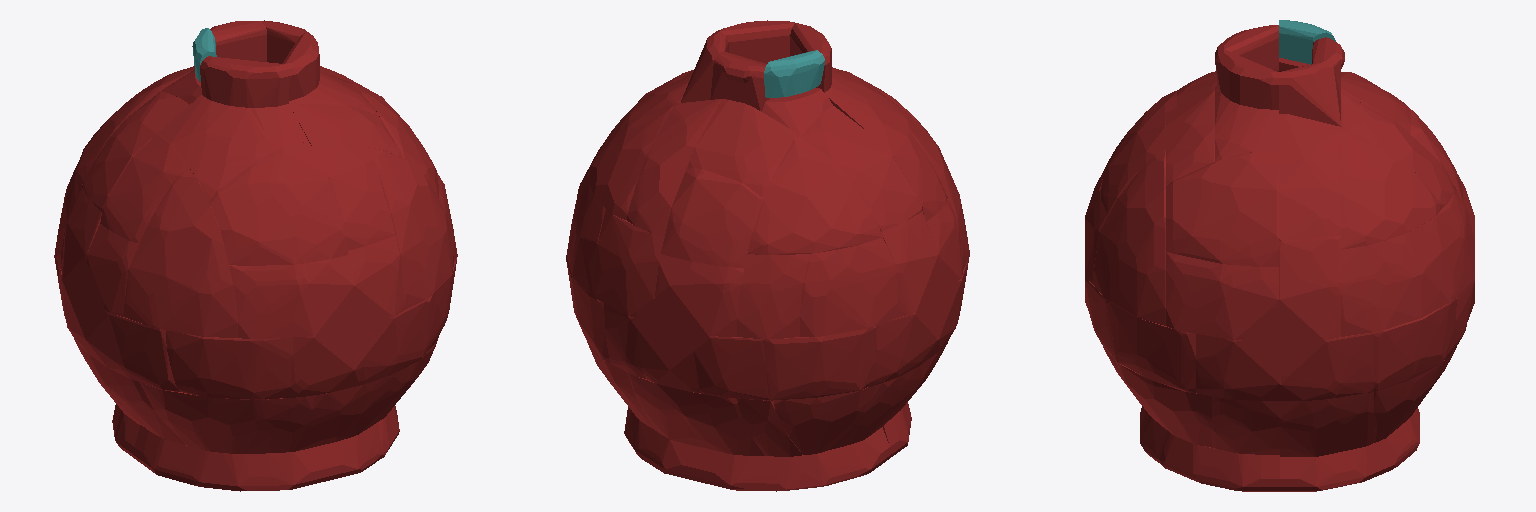
--- Render facts (derived) ---
Views: 3 orthographic renders of the robot side by side, from view 1: azimuth 30°, elevation 25°; view 2: azimuth 150°, elevation 25°; view 3: azimuth 270°, elevation 25°.
Robot: root — 2 links, 1 joints (1 revolute); root link bottle_body; default pose: all joints at 0.
Links seen in each view (by area): view 1: bottle_body, bottle_cap; view 2: bottle_body, bottle_cap; view 3: bottle_body, bottle_cap.
Boxes of the visible links, <box> form: bottle_body: <box>54,20,457,491</box>; bottle_cap: <box>192,28,216,81</box>; bottle_body: <box>566,20,969,491</box>; bottle_cap: <box>764,50,824,97</box>; bottle_body: <box>1085,25,1474,491</box>; bottle_cap: <box>1279,20,1335,64</box>.
Bounding box of the posed robot: 0.1507 × 0.1507 × 0.1671 m (x, y, z).
Meshes: 76 distinct files referenced, 76 mesh visuals loaded (76 OBJ).

URDF robot description (root):
<robot name="root">
  <link name="bottle_body">
    <inertial>
      <origin xyz="0 0 0" rpy="0 0 0"/>
    </inertial>
    <mass value="1.00E-02"/>
    <visual>
      <origin xyz="0 0 0" rpy="0 0 0"/>
      <geometry>
        <mesh filename="core-bottle-ab5ca2f648a9daa1b5ad628041310f96-coacd_convex_piece_4.obj" scale="1.0000E-01 1.0000E-01 1.0000E-01"/>
      </geometry>
      <material name="">
        <color rgba="6.00E-01 2.00E-01 2.00E-01 1"/>
      </material>
    </visual>
    <collision>
      <origin xyz="0 0 0" rpy="0 0 0"/>
      <geometry>
        <mesh filename="core-bottle-ab5ca2f648a9daa1b5ad628041310f96-coacd_convex_piece_4.obj" scale="1.0000E-01 1.0000E-01 1.0000E-01"/>
      </geometry>
    </collision>
    <visual>
      <origin xyz="0 0 0" rpy="0 0 0"/>
      <geometry>
        <mesh filename="core-bottle-ab5ca2f648a9daa1b5ad628041310f96-coacd_convex_piece_75.obj" scale="1.0000E-01 1.0000E-01 1.0000E-01"/>
      </geometry>
      <material name="">
        <color rgba="6.00E-01 2.00E-01 2.00E-01 1"/>
      </material>
    </visual>
    <collision>
      <origin xyz="0 0 0" rpy="0 0 0"/>
      <geometry>
        <mesh filename="core-bottle-ab5ca2f648a9daa1b5ad628041310f96-coacd_convex_piece_75.obj" scale="1.0000E-01 1.0000E-01 1.0000E-01"/>
      </geometry>
    </collision>
    <visual>
      <origin xyz="0 0 0" rpy="0 0 0"/>
      <geometry>
        <mesh filename="core-bottle-ab5ca2f648a9daa1b5ad628041310f96-coacd_convex_piece_43.obj" scale="1.0000E-01 1.0000E-01 1.0000E-01"/>
      </geometry>
      <material name="">
        <color rgba="6.00E-01 2.00E-01 2.00E-01 1"/>
      </material>
    </visual>
    <collision>
      <origin xyz="0 0 0" rpy="0 0 0"/>
      <geometry>
        <mesh filename="core-bottle-ab5ca2f648a9daa1b5ad628041310f96-coacd_convex_piece_43.obj" scale="1.0000E-01 1.0000E-01 1.0000E-01"/>
      </geometry>
    </collision>
    <visual>
      <origin xyz="0 0 0" rpy="0 0 0"/>
      <geometry>
        <mesh filename="core-bottle-ab5ca2f648a9daa1b5ad628041310f96-coacd_convex_piece_0.obj" scale="1.0000E-01 1.0000E-01 1.0000E-01"/>
      </geometry>
      <material name="">
        <color rgba="6.00E-01 2.00E-01 2.00E-01 1"/>
      </material>
    </visual>
    <collision>
      <origin xyz="0 0 0" rpy="0 0 0"/>
      <geometry>
        <mesh filename="core-bottle-ab5ca2f648a9daa1b5ad628041310f96-coacd_convex_piece_0.obj" scale="1.0000E-01 1.0000E-01 1.0000E-01"/>
      </geometry>
    </collision>
    <visual>
      <origin xyz="0 0 0" rpy="0 0 0"/>
      <geometry>
        <mesh filename="core-bottle-ab5ca2f648a9daa1b5ad628041310f96-coacd_convex_piece_55.obj" scale="1.0000E-01 1.0000E-01 1.0000E-01"/>
      </geometry>
      <material name="">
        <color rgba="6.00E-01 2.00E-01 2.00E-01 1"/>
      </material>
    </visual>
    <collision>
      <origin xyz="0 0 0" rpy="0 0 0"/>
      <geometry>
        <mesh filename="core-bottle-ab5ca2f648a9daa1b5ad628041310f96-coacd_convex_piece_55.obj" scale="1.0000E-01 1.0000E-01 1.0000E-01"/>
      </geometry>
    </collision>
    <visual>
      <origin xyz="0 0 0" rpy="0 0 0"/>
      <geometry>
        <mesh filename="core-bottle-ab5ca2f648a9daa1b5ad628041310f96-coacd_convex_piece_31.obj" scale="1.0000E-01 1.0000E-01 1.0000E-01"/>
      </geometry>
      <material name="">
        <color rgba="6.00E-01 2.00E-01 2.00E-01 1"/>
      </material>
    </visual>
    <collision>
      <origin xyz="0 0 0" rpy="0 0 0"/>
      <geometry>
        <mesh filename="core-bottle-ab5ca2f648a9daa1b5ad628041310f96-coacd_convex_piece_31.obj" scale="1.0000E-01 1.0000E-01 1.0000E-01"/>
      </geometry>
    </collision>
    <visual>
      <origin xyz="0 0 0" rpy="0 0 0"/>
      <geometry>
        <mesh filename="core-bottle-ab5ca2f648a9daa1b5ad628041310f96-coacd_convex_piece_28.obj" scale="1.0000E-01 1.0000E-01 1.0000E-01"/>
      </geometry>
      <material name="">
        <color rgba="6.00E-01 2.00E-01 2.00E-01 1"/>
      </material>
    </visual>
    <collision>
      <origin xyz="0 0 0" rpy="0 0 0"/>
      <geometry>
        <mesh filename="core-bottle-ab5ca2f648a9daa1b5ad628041310f96-coacd_convex_piece_28.obj" scale="1.0000E-01 1.0000E-01 1.0000E-01"/>
      </geometry>
    </collision>
    <visual>
      <origin xyz="0 0 0" rpy="0 0 0"/>
      <geometry>
        <mesh filename="core-bottle-ab5ca2f648a9daa1b5ad628041310f96-coacd_convex_piece_1.obj" scale="1.0000E-01 1.0000E-01 1.0000E-01"/>
      </geometry>
      <material name="">
        <color rgba="6.00E-01 2.00E-01 2.00E-01 1"/>
      </material>
    </visual>
    <collision>
      <origin xyz="0 0 0" rpy="0 0 0"/>
      <geometry>
        <mesh filename="core-bottle-ab5ca2f648a9daa1b5ad628041310f96-coacd_convex_piece_1.obj" scale="1.0000E-01 1.0000E-01 1.0000E-01"/>
      </geometry>
    </collision>
    <visual>
      <origin xyz="0 0 0" rpy="0 0 0"/>
      <geometry>
        <mesh filename="core-bottle-ab5ca2f648a9daa1b5ad628041310f96-coacd_convex_piece_68.obj" scale="1.0000E-01 1.0000E-01 1.0000E-01"/>
      </geometry>
      <material name="">
        <color rgba="6.00E-01 2.00E-01 2.00E-01 1"/>
      </material>
    </visual>
    <collision>
      <origin xyz="0 0 0" rpy="0 0 0"/>
      <geometry>
        <mesh filename="core-bottle-ab5ca2f648a9daa1b5ad628041310f96-coacd_convex_piece_68.obj" scale="1.0000E-01 1.0000E-01 1.0000E-01"/>
      </geometry>
    </collision>
    <visual>
      <origin xyz="0 0 0" rpy="0 0 0"/>
      <geometry>
        <mesh filename="core-bottle-ab5ca2f648a9daa1b5ad628041310f96-coacd_convex_piece_3.obj" scale="1.0000E-01 1.0000E-01 1.0000E-01"/>
      </geometry>
      <material name="">
        <color rgba="6.00E-01 2.00E-01 2.00E-01 1"/>
      </material>
    </visual>
    <collision>
      <origin xyz="0 0 0" rpy="0 0 0"/>
      <geometry>
        <mesh filename="core-bottle-ab5ca2f648a9daa1b5ad628041310f96-coacd_convex_piece_3.obj" scale="1.0000E-01 1.0000E-01 1.0000E-01"/>
      </geometry>
    </collision>
    <visual>
      <origin xyz="0 0 0" rpy="0 0 0"/>
      <geometry>
        <mesh filename="core-bottle-ab5ca2f648a9daa1b5ad628041310f96-coacd_convex_piece_20.obj" scale="1.0000E-01 1.0000E-01 1.0000E-01"/>
      </geometry>
      <material name="">
        <color rgba="6.00E-01 2.00E-01 2.00E-01 1"/>
      </material>
    </visual>
    <collision>
      <origin xyz="0 0 0" rpy="0 0 0"/>
      <geometry>
        <mesh filename="core-bottle-ab5ca2f648a9daa1b5ad628041310f96-coacd_convex_piece_20.obj" scale="1.0000E-01 1.0000E-01 1.0000E-01"/>
      </geometry>
    </collision>
    <visual>
      <origin xyz="0 0 0" rpy="0 0 0"/>
      <geometry>
        <mesh filename="core-bottle-ab5ca2f648a9daa1b5ad628041310f96-coacd_convex_piece_36.obj" scale="1.0000E-01 1.0000E-01 1.0000E-01"/>
      </geometry>
      <material name="">
        <color rgba="6.00E-01 2.00E-01 2.00E-01 1"/>
      </material>
    </visual>
    <collision>
      <origin xyz="0 0 0" rpy="0 0 0"/>
      <geometry>
        <mesh filename="core-bottle-ab5ca2f648a9daa1b5ad628041310f96-coacd_convex_piece_36.obj" scale="1.0000E-01 1.0000E-01 1.0000E-01"/>
      </geometry>
    </collision>
    <visual>
      <origin xyz="0 0 0" rpy="0 0 0"/>
      <geometry>
        <mesh filename="core-bottle-ab5ca2f648a9daa1b5ad628041310f96-coacd_convex_piece_9.obj" scale="1.0000E-01 1.0000E-01 1.0000E-01"/>
      </geometry>
      <material name="">
        <color rgba="6.00E-01 2.00E-01 2.00E-01 1"/>
      </material>
    </visual>
    <collision>
      <origin xyz="0 0 0" rpy="0 0 0"/>
      <geometry>
        <mesh filename="core-bottle-ab5ca2f648a9daa1b5ad628041310f96-coacd_convex_piece_9.obj" scale="1.0000E-01 1.0000E-01 1.0000E-01"/>
      </geometry>
    </collision>
    <visual>
      <origin xyz="0 0 0" rpy="0 0 0"/>
      <geometry>
        <mesh filename="core-bottle-ab5ca2f648a9daa1b5ad628041310f96-coacd_convex_piece_17.obj" scale="1.0000E-01 1.0000E-01 1.0000E-01"/>
      </geometry>
      <material name="">
        <color rgba="6.00E-01 2.00E-01 2.00E-01 1"/>
      </material>
    </visual>
    <collision>
      <origin xyz="0 0 0" rpy="0 0 0"/>
      <geometry>
        <mesh filename="core-bottle-ab5ca2f648a9daa1b5ad628041310f96-coacd_convex_piece_17.obj" scale="1.0000E-01 1.0000E-01 1.0000E-01"/>
      </geometry>
    </collision>
    <visual>
      <origin xyz="0 0 0" rpy="0 0 0"/>
      <geometry>
        <mesh filename="core-bottle-ab5ca2f648a9daa1b5ad628041310f96-coacd_convex_piece_30.obj" scale="1.0000E-01 1.0000E-01 1.0000E-01"/>
      </geometry>
      <material name="">
        <color rgba="6.00E-01 2.00E-01 2.00E-01 1"/>
      </material>
    </visual>
    <collision>
      <origin xyz="0 0 0" rpy="0 0 0"/>
      <geometry>
        <mesh filename="core-bottle-ab5ca2f648a9daa1b5ad628041310f96-coacd_convex_piece_30.obj" scale="1.0000E-01 1.0000E-01 1.0000E-01"/>
      </geometry>
    </collision>
    <visual>
      <origin xyz="0 0 0" rpy="0 0 0"/>
      <geometry>
        <mesh filename="core-bottle-ab5ca2f648a9daa1b5ad628041310f96-coacd_convex_piece_56.obj" scale="1.0000E-01 1.0000E-01 1.0000E-01"/>
      </geometry>
      <material name="">
        <color rgba="6.00E-01 2.00E-01 2.00E-01 1"/>
      </material>
    </visual>
    <collision>
      <origin xyz="0 0 0" rpy="0 0 0"/>
      <geometry>
        <mesh filename="core-bottle-ab5ca2f648a9daa1b5ad628041310f96-coacd_convex_piece_56.obj" scale="1.0000E-01 1.0000E-01 1.0000E-01"/>
      </geometry>
    </collision>
    <visual>
      <origin xyz="0 0 0" rpy="0 0 0"/>
      <geometry>
        <mesh filename="core-bottle-ab5ca2f648a9daa1b5ad628041310f96-coacd_convex_piece_58.obj" scale="1.0000E-01 1.0000E-01 1.0000E-01"/>
      </geometry>
      <material name="">
        <color rgba="6.00E-01 2.00E-01 2.00E-01 1"/>
      </material>
    </visual>
    <collision>
      <origin xyz="0 0 0" rpy="0 0 0"/>
      <geometry>
        <mesh filename="core-bottle-ab5ca2f648a9daa1b5ad628041310f96-coacd_convex_piece_58.obj" scale="1.0000E-01 1.0000E-01 1.0000E-01"/>
      </geometry>
    </collision>
    <visual>
      <origin xyz="0 0 0" rpy="0 0 0"/>
      <geometry>
        <mesh filename="core-bottle-ab5ca2f648a9daa1b5ad628041310f96-coacd_convex_piece_54.obj" scale="1.0000E-01 1.0000E-01 1.0000E-01"/>
      </geometry>
      <material name="">
        <color rgba="6.00E-01 2.00E-01 2.00E-01 1"/>
      </material>
    </visual>
    <collision>
      <origin xyz="0 0 0" rpy="0 0 0"/>
      <geometry>
        <mesh filename="core-bottle-ab5ca2f648a9daa1b5ad628041310f96-coacd_convex_piece_54.obj" scale="1.0000E-01 1.0000E-01 1.0000E-01"/>
      </geometry>
    </collision>
    <visual>
      <origin xyz="0 0 0" rpy="0 0 0"/>
      <geometry>
        <mesh filename="core-bottle-ab5ca2f648a9daa1b5ad628041310f96-coacd_convex_piece_64.obj" scale="1.0000E-01 1.0000E-01 1.0000E-01"/>
      </geometry>
      <material name="">
        <color rgba="6.00E-01 2.00E-01 2.00E-01 1"/>
      </material>
    </visual>
    <collision>
      <origin xyz="0 0 0" rpy="0 0 0"/>
      <geometry>
        <mesh filename="core-bottle-ab5ca2f648a9daa1b5ad628041310f96-coacd_convex_piece_64.obj" scale="1.0000E-01 1.0000E-01 1.0000E-01"/>
      </geometry>
    </collision>
    <visual>
      <origin xyz="0 0 0" rpy="0 0 0"/>
      <geometry>
        <mesh filename="core-bottle-ab5ca2f648a9daa1b5ad628041310f96-coacd_convex_piece_49.obj" scale="1.0000E-01 1.0000E-01 1.0000E-01"/>
      </geometry>
      <material name="">
        <color rgba="6.00E-01 2.00E-01 2.00E-01 1"/>
      </material>
    </visual>
    <collision>
      <origin xyz="0 0 0" rpy="0 0 0"/>
      <geometry>
        <mesh filename="core-bottle-ab5ca2f648a9daa1b5ad628041310f96-coacd_convex_piece_49.obj" scale="1.0000E-01 1.0000E-01 1.0000E-01"/>
      </geometry>
    </collision>
    <visual>
      <origin xyz="0 0 0" rpy="0 0 0"/>
      <geometry>
        <mesh filename="core-bottle-ab5ca2f648a9daa1b5ad628041310f96-coacd_convex_piece_29.obj" scale="1.0000E-01 1.0000E-01 1.0000E-01"/>
      </geometry>
      <material name="">
        <color rgba="6.00E-01 2.00E-01 2.00E-01 1"/>
      </material>
    </visual>
    <collision>
      <origin xyz="0 0 0" rpy="0 0 0"/>
      <geometry>
        <mesh filename="core-bottle-ab5ca2f648a9daa1b5ad628041310f96-coacd_convex_piece_29.obj" scale="1.0000E-01 1.0000E-01 1.0000E-01"/>
      </geometry>
    </collision>
    <visual>
      <origin xyz="0 0 0" rpy="0 0 0"/>
      <geometry>
        <mesh filename="core-bottle-ab5ca2f648a9daa1b5ad628041310f96-coacd_convex_piece_7.obj" scale="1.0000E-01 1.0000E-01 1.0000E-01"/>
      </geometry>
      <material name="">
        <color rgba="6.00E-01 2.00E-01 2.00E-01 1"/>
      </material>
    </visual>
    <collision>
      <origin xyz="0 0 0" rpy="0 0 0"/>
      <geometry>
        <mesh filename="core-bottle-ab5ca2f648a9daa1b5ad628041310f96-coacd_convex_piece_7.obj" scale="1.0000E-01 1.0000E-01 1.0000E-01"/>
      </geometry>
    </collision>
    <visual>
      <origin xyz="0 0 0" rpy="0 0 0"/>
      <geometry>
        <mesh filename="core-bottle-ab5ca2f648a9daa1b5ad628041310f96-coacd_convex_piece_23.obj" scale="1.0000E-01 1.0000E-01 1.0000E-01"/>
      </geometry>
      <material name="">
        <color rgba="6.00E-01 2.00E-01 2.00E-01 1"/>
      </material>
    </visual>
    <collision>
      <origin xyz="0 0 0" rpy="0 0 0"/>
      <geometry>
        <mesh filename="core-bottle-ab5ca2f648a9daa1b5ad628041310f96-coacd_convex_piece_23.obj" scale="1.0000E-01 1.0000E-01 1.0000E-01"/>
      </geometry>
    </collision>
    <visual>
      <origin xyz="0 0 0" rpy="0 0 0"/>
      <geometry>
        <mesh filename="core-bottle-ab5ca2f648a9daa1b5ad628041310f96-coacd_convex_piece_5.obj" scale="1.0000E-01 1.0000E-01 1.0000E-01"/>
      </geometry>
      <material name="">
        <color rgba="6.00E-01 2.00E-01 2.00E-01 1"/>
      </material>
    </visual>
    <collision>
      <origin xyz="0 0 0" rpy="0 0 0"/>
      <geometry>
        <mesh filename="core-bottle-ab5ca2f648a9daa1b5ad628041310f96-coacd_convex_piece_5.obj" scale="1.0000E-01 1.0000E-01 1.0000E-01"/>
      </geometry>
    </collision>
    <visual>
      <origin xyz="0 0 0" rpy="0 0 0"/>
      <geometry>
        <mesh filename="core-bottle-ab5ca2f648a9daa1b5ad628041310f96-coacd_convex_piece_47.obj" scale="1.0000E-01 1.0000E-01 1.0000E-01"/>
      </geometry>
      <material name="">
        <color rgba="6.00E-01 2.00E-01 2.00E-01 1"/>
      </material>
    </visual>
    <collision>
      <origin xyz="0 0 0" rpy="0 0 0"/>
      <geometry>
        <mesh filename="core-bottle-ab5ca2f648a9daa1b5ad628041310f96-coacd_convex_piece_47.obj" scale="1.0000E-01 1.0000E-01 1.0000E-01"/>
      </geometry>
    </collision>
    <visual>
      <origin xyz="0 0 0" rpy="0 0 0"/>
      <geometry>
        <mesh filename="core-bottle-ab5ca2f648a9daa1b5ad628041310f96-coacd_convex_piece_72.obj" scale="1.0000E-01 1.0000E-01 1.0000E-01"/>
      </geometry>
      <material name="">
        <color rgba="6.00E-01 2.00E-01 2.00E-01 1"/>
      </material>
    </visual>
    <collision>
      <origin xyz="0 0 0" rpy="0 0 0"/>
      <geometry>
        <mesh filename="core-bottle-ab5ca2f648a9daa1b5ad628041310f96-coacd_convex_piece_72.obj" scale="1.0000E-01 1.0000E-01 1.0000E-01"/>
      </geometry>
    </collision>
    <visual>
      <origin xyz="0 0 0" rpy="0 0 0"/>
      <geometry>
        <mesh filename="core-bottle-ab5ca2f648a9daa1b5ad628041310f96-coacd_convex_piece_60.obj" scale="1.0000E-01 1.0000E-01 1.0000E-01"/>
      </geometry>
      <material name="">
        <color rgba="6.00E-01 2.00E-01 2.00E-01 1"/>
      </material>
    </visual>
    <collision>
      <origin xyz="0 0 0" rpy="0 0 0"/>
      <geometry>
        <mesh filename="core-bottle-ab5ca2f648a9daa1b5ad628041310f96-coacd_convex_piece_60.obj" scale="1.0000E-01 1.0000E-01 1.0000E-01"/>
      </geometry>
    </collision>
    <visual>
      <origin xyz="0 0 0" rpy="0 0 0"/>
      <geometry>
        <mesh filename="core-bottle-ab5ca2f648a9daa1b5ad628041310f96-coacd_convex_piece_62.obj" scale="1.0000E-01 1.0000E-01 1.0000E-01"/>
      </geometry>
      <material name="">
        <color rgba="6.00E-01 2.00E-01 2.00E-01 1"/>
      </material>
    </visual>
    <collision>
      <origin xyz="0 0 0" rpy="0 0 0"/>
      <geometry>
        <mesh filename="core-bottle-ab5ca2f648a9daa1b5ad628041310f96-coacd_convex_piece_62.obj" scale="1.0000E-01 1.0000E-01 1.0000E-01"/>
      </geometry>
    </collision>
    <visual>
      <origin xyz="0 0 0" rpy="0 0 0"/>
      <geometry>
        <mesh filename="core-bottle-ab5ca2f648a9daa1b5ad628041310f96-coacd_convex_piece_44.obj" scale="1.0000E-01 1.0000E-01 1.0000E-01"/>
      </geometry>
      <material name="">
        <color rgba="6.00E-01 2.00E-01 2.00E-01 1"/>
      </material>
    </visual>
    <collision>
      <origin xyz="0 0 0" rpy="0 0 0"/>
      <geometry>
        <mesh filename="core-bottle-ab5ca2f648a9daa1b5ad628041310f96-coacd_convex_piece_44.obj" scale="1.0000E-01 1.0000E-01 1.0000E-01"/>
      </geometry>
    </collision>
    <visual>
      <origin xyz="0 0 0" rpy="0 0 0"/>
      <geometry>
        <mesh filename="core-bottle-ab5ca2f648a9daa1b5ad628041310f96-coacd_convex_piece_73.obj" scale="1.0000E-01 1.0000E-01 1.0000E-01"/>
      </geometry>
      <material name="">
        <color rgba="6.00E-01 2.00E-01 2.00E-01 1"/>
      </material>
    </visual>
    <collision>
      <origin xyz="0 0 0" rpy="0 0 0"/>
      <geometry>
        <mesh filename="core-bottle-ab5ca2f648a9daa1b5ad628041310f96-coacd_convex_piece_73.obj" scale="1.0000E-01 1.0000E-01 1.0000E-01"/>
      </geometry>
    </collision>
    <visual>
      <origin xyz="0 0 0" rpy="0 0 0"/>
      <geometry>
        <mesh filename="core-bottle-ab5ca2f648a9daa1b5ad628041310f96-coacd_convex_piece_21.obj" scale="1.0000E-01 1.0000E-01 1.0000E-01"/>
      </geometry>
      <material name="">
        <color rgba="6.00E-01 2.00E-01 2.00E-01 1"/>
      </material>
    </visual>
    <collision>
      <origin xyz="0 0 0" rpy="0 0 0"/>
      <geometry>
        <mesh filename="core-bottle-ab5ca2f648a9daa1b5ad628041310f96-coacd_convex_piece_21.obj" scale="1.0000E-01 1.0000E-01 1.0000E-01"/>
      </geometry>
    </collision>
    <visual>
      <origin xyz="0 0 0" rpy="0 0 0"/>
      <geometry>
        <mesh filename="core-bottle-ab5ca2f648a9daa1b5ad628041310f96-coacd_convex_piece_74.obj" scale="1.0000E-01 1.0000E-01 1.0000E-01"/>
      </geometry>
      <material name="">
        <color rgba="6.00E-01 2.00E-01 2.00E-01 1"/>
      </material>
    </visual>
    <collision>
      <origin xyz="0 0 0" rpy="0 0 0"/>
      <geometry>
        <mesh filename="core-bottle-ab5ca2f648a9daa1b5ad628041310f96-coacd_convex_piece_74.obj" scale="1.0000E-01 1.0000E-01 1.0000E-01"/>
      </geometry>
    </collision>
    <visual>
      <origin xyz="0 0 0" rpy="0 0 0"/>
      <geometry>
        <mesh filename="core-bottle-ab5ca2f648a9daa1b5ad628041310f96-coacd_convex_piece_16.obj" scale="1.0000E-01 1.0000E-01 1.0000E-01"/>
      </geometry>
      <material name="">
        <color rgba="6.00E-01 2.00E-01 2.00E-01 1"/>
      </material>
    </visual>
    <collision>
      <origin xyz="0 0 0" rpy="0 0 0"/>
      <geometry>
        <mesh filename="core-bottle-ab5ca2f648a9daa1b5ad628041310f96-coacd_convex_piece_16.obj" scale="1.0000E-01 1.0000E-01 1.0000E-01"/>
      </geometry>
    </collision>
    <visual>
      <origin xyz="0 0 0" rpy="0 0 0"/>
      <geometry>
        <mesh filename="core-bottle-ab5ca2f648a9daa1b5ad628041310f96-coacd_convex_piece_40.obj" scale="1.0000E-01 1.0000E-01 1.0000E-01"/>
      </geometry>
      <material name="">
        <color rgba="6.00E-01 2.00E-01 2.00E-01 1"/>
      </material>
    </visual>
    <collision>
      <origin xyz="0 0 0" rpy="0 0 0"/>
      <geometry>
        <mesh filename="core-bottle-ab5ca2f648a9daa1b5ad628041310f96-coacd_convex_piece_40.obj" scale="1.0000E-01 1.0000E-01 1.0000E-01"/>
      </geometry>
    </collision>
    <visual>
      <origin xyz="0 0 0" rpy="0 0 0"/>
      <geometry>
        <mesh filename="core-bottle-ab5ca2f648a9daa1b5ad628041310f96-coacd_convex_piece_15.obj" scale="1.0000E-01 1.0000E-01 1.0000E-01"/>
      </geometry>
      <material name="">
        <color rgba="6.00E-01 2.00E-01 2.00E-01 1"/>
      </material>
    </visual>
    <collision>
      <origin xyz="0 0 0" rpy="0 0 0"/>
      <geometry>
        <mesh filename="core-bottle-ab5ca2f648a9daa1b5ad628041310f96-coacd_convex_piece_15.obj" scale="1.0000E-01 1.0000E-01 1.0000E-01"/>
      </geometry>
    </collision>
    <visual>
      <origin xyz="0 0 0" rpy="0 0 0"/>
      <geometry>
        <mesh filename="core-bottle-ab5ca2f648a9daa1b5ad628041310f96-coacd_convex_piece_14.obj" scale="1.0000E-01 1.0000E-01 1.0000E-01"/>
      </geometry>
      <material name="">
        <color rgba="6.00E-01 2.00E-01 2.00E-01 1"/>
      </material>
    </visual>
    <collision>
      <origin xyz="0 0 0" rpy="0 0 0"/>
      <geometry>
        <mesh filename="core-bottle-ab5ca2f648a9daa1b5ad628041310f96-coacd_convex_piece_14.obj" scale="1.0000E-01 1.0000E-01 1.0000E-01"/>
      </geometry>
    </collision>
    <visual>
      <origin xyz="0 0 0" rpy="0 0 0"/>
      <geometry>
        <mesh filename="core-bottle-ab5ca2f648a9daa1b5ad628041310f96-coacd_convex_piece_2.obj" scale="1.0000E-01 1.0000E-01 1.0000E-01"/>
      </geometry>
      <material name="">
        <color rgba="6.00E-01 2.00E-01 2.00E-01 1"/>
      </material>
    </visual>
    <collision>
      <origin xyz="0 0 0" rpy="0 0 0"/>
      <geometry>
        <mesh filename="core-bottle-ab5ca2f648a9daa1b5ad628041310f96-coacd_convex_piece_2.obj" scale="1.0000E-01 1.0000E-01 1.0000E-01"/>
      </geometry>
    </collision>
    <visual>
      <origin xyz="0 0 0" rpy="0 0 0"/>
      <geometry>
        <mesh filename="core-bottle-ab5ca2f648a9daa1b5ad628041310f96-coacd_convex_piece_71.obj" scale="1.0000E-01 1.0000E-01 1.0000E-01"/>
      </geometry>
      <material name="">
        <color rgba="6.00E-01 2.00E-01 2.00E-01 1"/>
      </material>
    </visual>
    <collision>
      <origin xyz="0 0 0" rpy="0 0 0"/>
      <geometry>
        <mesh filename="core-bottle-ab5ca2f648a9daa1b5ad628041310f96-coacd_convex_piece_71.obj" scale="1.0000E-01 1.0000E-01 1.0000E-01"/>
      </geometry>
    </collision>
    <visual>
      <origin xyz="0 0 0" rpy="0 0 0"/>
      <geometry>
        <mesh filename="core-bottle-ab5ca2f648a9daa1b5ad628041310f96-coacd_convex_piece_67.obj" scale="1.0000E-01 1.0000E-01 1.0000E-01"/>
      </geometry>
      <material name="">
        <color rgba="6.00E-01 2.00E-01 2.00E-01 1"/>
      </material>
    </visual>
    <collision>
      <origin xyz="0 0 0" rpy="0 0 0"/>
      <geometry>
        <mesh filename="core-bottle-ab5ca2f648a9daa1b5ad628041310f96-coacd_convex_piece_67.obj" scale="1.0000E-01 1.0000E-01 1.0000E-01"/>
      </geometry>
    </collision>
    <visual>
      <origin xyz="0 0 0" rpy="0 0 0"/>
      <geometry>
        <mesh filename="core-bottle-ab5ca2f648a9daa1b5ad628041310f96-coacd_convex_piece_70.obj" scale="1.0000E-01 1.0000E-01 1.0000E-01"/>
      </geometry>
      <material name="">
        <color rgba="6.00E-01 2.00E-01 2.00E-01 1"/>
      </material>
    </visual>
    <collision>
      <origin xyz="0 0 0" rpy="0 0 0"/>
      <geometry>
        <mesh filename="core-bottle-ab5ca2f648a9daa1b5ad628041310f96-coacd_convex_piece_70.obj" scale="1.0000E-01 1.0000E-01 1.0000E-01"/>
      </geometry>
    </collision>
    <visual>
      <origin xyz="0 0 0" rpy="0 0 0"/>
      <geometry>
        <mesh filename="core-bottle-ab5ca2f648a9daa1b5ad628041310f96-coacd_convex_piece_45.obj" scale="1.0000E-01 1.0000E-01 1.0000E-01"/>
      </geometry>
      <material name="">
        <color rgba="6.00E-01 2.00E-01 2.00E-01 1"/>
      </material>
    </visual>
    <collision>
      <origin xyz="0 0 0" rpy="0 0 0"/>
      <geometry>
        <mesh filename="core-bottle-ab5ca2f648a9daa1b5ad628041310f96-coacd_convex_piece_45.obj" scale="1.0000E-01 1.0000E-01 1.0000E-01"/>
      </geometry>
    </collision>
    <visual>
      <origin xyz="0 0 0" rpy="0 0 0"/>
      <geometry>
        <mesh filename="core-bottle-ab5ca2f648a9daa1b5ad628041310f96-coacd_convex_piece_22.obj" scale="1.0000E-01 1.0000E-01 1.0000E-01"/>
      </geometry>
      <material name="">
        <color rgba="6.00E-01 2.00E-01 2.00E-01 1"/>
      </material>
    </visual>
    <collision>
      <origin xyz="0 0 0" rpy="0 0 0"/>
      <geometry>
        <mesh filename="core-bottle-ab5ca2f648a9daa1b5ad628041310f96-coacd_convex_piece_22.obj" scale="1.0000E-01 1.0000E-01 1.0000E-01"/>
      </geometry>
    </collision>
    <visual>
      <origin xyz="0 0 0" rpy="0 0 0"/>
      <geometry>
        <mesh filename="core-bottle-ab5ca2f648a9daa1b5ad628041310f96-coacd_convex_piece_26.obj" scale="1.0000E-01 1.0000E-01 1.0000E-01"/>
      </geometry>
      <material name="">
        <color rgba="6.00E-01 2.00E-01 2.00E-01 1"/>
      </material>
    </visual>
    <collision>
      <origin xyz="0 0 0" rpy="0 0 0"/>
      <geometry>
        <mesh filename="core-bottle-ab5ca2f648a9daa1b5ad628041310f96-coacd_convex_piece_26.obj" scale="1.0000E-01 1.0000E-01 1.0000E-01"/>
      </geometry>
    </collision>
    <visual>
      <origin xyz="0 0 0" rpy="0 0 0"/>
      <geometry>
        <mesh filename="core-bottle-ab5ca2f648a9daa1b5ad628041310f96-coacd_convex_piece_11.obj" scale="1.0000E-01 1.0000E-01 1.0000E-01"/>
      </geometry>
      <material name="">
        <color rgba="6.00E-01 2.00E-01 2.00E-01 1"/>
      </material>
    </visual>
    <collision>
      <origin xyz="0 0 0" rpy="0 0 0"/>
      <geometry>
        <mesh filename="core-bottle-ab5ca2f648a9daa1b5ad628041310f96-coacd_convex_piece_11.obj" scale="1.0000E-01 1.0000E-01 1.0000E-01"/>
      </geometry>
    </collision>
    <visual>
      <origin xyz="0 0 0" rpy="0 0 0"/>
      <geometry>
        <mesh filename="core-bottle-ab5ca2f648a9daa1b5ad628041310f96-coacd_convex_piece_53.obj" scale="1.0000E-01 1.0000E-01 1.0000E-01"/>
      </geometry>
      <material name="">
        <color rgba="6.00E-01 2.00E-01 2.00E-01 1"/>
      </material>
    </visual>
    <collision>
      <origin xyz="0 0 0" rpy="0 0 0"/>
      <geometry>
        <mesh filename="core-bottle-ab5ca2f648a9daa1b5ad628041310f96-coacd_convex_piece_53.obj" scale="1.0000E-01 1.0000E-01 1.0000E-01"/>
      </geometry>
    </collision>
    <visual>
      <origin xyz="0 0 0" rpy="0 0 0"/>
      <geometry>
        <mesh filename="core-bottle-ab5ca2f648a9daa1b5ad628041310f96-coacd_convex_piece_10.obj" scale="1.0000E-01 1.0000E-01 1.0000E-01"/>
      </geometry>
      <material name="">
        <color rgba="6.00E-01 2.00E-01 2.00E-01 1"/>
      </material>
    </visual>
    <collision>
      <origin xyz="0 0 0" rpy="0 0 0"/>
      <geometry>
        <mesh filename="core-bottle-ab5ca2f648a9daa1b5ad628041310f96-coacd_convex_piece_10.obj" scale="1.0000E-01 1.0000E-01 1.0000E-01"/>
      </geometry>
    </collision>
    <visual>
      <origin xyz="0 0 0" rpy="0 0 0"/>
      <geometry>
        <mesh filename="core-bottle-ab5ca2f648a9daa1b5ad628041310f96-coacd_convex_piece_32.obj" scale="1.0000E-01 1.0000E-01 1.0000E-01"/>
      </geometry>
      <material name="">
        <color rgba="6.00E-01 2.00E-01 2.00E-01 1"/>
      </material>
    </visual>
    <collision>
      <origin xyz="0 0 0" rpy="0 0 0"/>
      <geometry>
        <mesh filename="core-bottle-ab5ca2f648a9daa1b5ad628041310f96-coacd_convex_piece_32.obj" scale="1.0000E-01 1.0000E-01 1.0000E-01"/>
      </geometry>
    </collision>
    <visual>
      <origin xyz="0 0 0" rpy="0 0 0"/>
      <geometry>
        <mesh filename="core-bottle-ab5ca2f648a9daa1b5ad628041310f96-coacd_convex_piece_52.obj" scale="1.0000E-01 1.0000E-01 1.0000E-01"/>
      </geometry>
      <material name="">
        <color rgba="6.00E-01 2.00E-01 2.00E-01 1"/>
      </material>
    </visual>
    <collision>
      <origin xyz="0 0 0" rpy="0 0 0"/>
      <geometry>
        <mesh filename="core-bottle-ab5ca2f648a9daa1b5ad628041310f96-coacd_convex_piece_52.obj" scale="1.0000E-01 1.0000E-01 1.0000E-01"/>
      </geometry>
    </collision>
    <visual>
      <origin xyz="0 0 0" rpy="0 0 0"/>
      <geometry>
        <mesh filename="core-bottle-ab5ca2f648a9daa1b5ad628041310f96-coacd_convex_piece_24.obj" scale="1.0000E-01 1.0000E-01 1.0000E-01"/>
      </geometry>
      <material name="">
        <color rgba="6.00E-01 2.00E-01 2.00E-01 1"/>
      </material>
    </visual>
    <collision>
      <origin xyz="0 0 0" rpy="0 0 0"/>
      <geometry>
        <mesh filename="core-bottle-ab5ca2f648a9daa1b5ad628041310f96-coacd_convex_piece_24.obj" scale="1.0000E-01 1.0000E-01 1.0000E-01"/>
      </geometry>
    </collision>
    <visual>
      <origin xyz="0 0 0" rpy="0 0 0"/>
      <geometry>
        <mesh filename="core-bottle-ab5ca2f648a9daa1b5ad628041310f96-coacd_convex_piece_6.obj" scale="1.0000E-01 1.0000E-01 1.0000E-01"/>
      </geometry>
      <material name="">
        <color rgba="6.00E-01 2.00E-01 2.00E-01 1"/>
      </material>
    </visual>
    <collision>
      <origin xyz="0 0 0" rpy="0 0 0"/>
      <geometry>
        <mesh filename="core-bottle-ab5ca2f648a9daa1b5ad628041310f96-coacd_convex_piece_6.obj" scale="1.0000E-01 1.0000E-01 1.0000E-01"/>
      </geometry>
    </collision>
    <visual>
      <origin xyz="0 0 0" rpy="0 0 0"/>
      <geometry>
        <mesh filename="core-bottle-ab5ca2f648a9daa1b5ad628041310f96-coacd_convex_piece_66.obj" scale="1.0000E-01 1.0000E-01 1.0000E-01"/>
      </geometry>
      <material name="">
        <color rgba="6.00E-01 2.00E-01 2.00E-01 1"/>
      </material>
    </visual>
    <collision>
      <origin xyz="0 0 0" rpy="0 0 0"/>
      <geometry>
        <mesh filename="core-bottle-ab5ca2f648a9daa1b5ad628041310f96-coacd_convex_piece_66.obj" scale="1.0000E-01 1.0000E-01 1.0000E-01"/>
      </geometry>
    </collision>
    <visual>
      <origin xyz="0 0 0" rpy="0 0 0"/>
      <geometry>
        <mesh filename="core-bottle-ab5ca2f648a9daa1b5ad628041310f96-coacd_convex_piece_38.obj" scale="1.0000E-01 1.0000E-01 1.0000E-01"/>
      </geometry>
      <material name="">
        <color rgba="6.00E-01 2.00E-01 2.00E-01 1"/>
      </material>
    </visual>
    <collision>
      <origin xyz="0 0 0" rpy="0 0 0"/>
      <geometry>
        <mesh filename="core-bottle-ab5ca2f648a9daa1b5ad628041310f96-coacd_convex_piece_38.obj" scale="1.0000E-01 1.0000E-01 1.0000E-01"/>
      </geometry>
    </collision>
    <visual>
      <origin xyz="0 0 0" rpy="0 0 0"/>
      <geometry>
        <mesh filename="core-bottle-ab5ca2f648a9daa1b5ad628041310f96-coacd_convex_piece_33.obj" scale="1.0000E-01 1.0000E-01 1.0000E-01"/>
      </geometry>
      <material name="">
        <color rgba="6.00E-01 2.00E-01 2.00E-01 1"/>
      </material>
    </visual>
    <collision>
      <origin xyz="0 0 0" rpy="0 0 0"/>
      <geometry>
        <mesh filename="core-bottle-ab5ca2f648a9daa1b5ad628041310f96-coacd_convex_piece_33.obj" scale="1.0000E-01 1.0000E-01 1.0000E-01"/>
      </geometry>
    </collision>
    <visual>
      <origin xyz="0 0 0" rpy="0 0 0"/>
      <geometry>
        <mesh filename="core-bottle-ab5ca2f648a9daa1b5ad628041310f96-coacd_convex_piece_46.obj" scale="1.0000E-01 1.0000E-01 1.0000E-01"/>
      </geometry>
      <material name="">
        <color rgba="6.00E-01 2.00E-01 2.00E-01 1"/>
      </material>
    </visual>
    <collision>
      <origin xyz="0 0 0" rpy="0 0 0"/>
      <geometry>
        <mesh filename="core-bottle-ab5ca2f648a9daa1b5ad628041310f96-coacd_convex_piece_46.obj" scale="1.0000E-01 1.0000E-01 1.0000E-01"/>
      </geometry>
    </collision>
    <visual>
      <origin xyz="0 0 0" rpy="0 0 0"/>
      <geometry>
        <mesh filename="core-bottle-ab5ca2f648a9daa1b5ad628041310f96-coacd_convex_piece_27.obj" scale="1.0000E-01 1.0000E-01 1.0000E-01"/>
      </geometry>
      <material name="">
        <color rgba="6.00E-01 2.00E-01 2.00E-01 1"/>
      </material>
    </visual>
    <collision>
      <origin xyz="0 0 0" rpy="0 0 0"/>
      <geometry>
        <mesh filename="core-bottle-ab5ca2f648a9daa1b5ad628041310f96-coacd_convex_piece_27.obj" scale="1.0000E-01 1.0000E-01 1.0000E-01"/>
      </geometry>
    </collision>
    <visual>
      <origin xyz="0 0 0" rpy="0 0 0"/>
      <geometry>
        <mesh filename="core-bottle-ab5ca2f648a9daa1b5ad628041310f96-coacd_convex_piece_13.obj" scale="1.0000E-01 1.0000E-01 1.0000E-01"/>
      </geometry>
      <material name="">
        <color rgba="6.00E-01 2.00E-01 2.00E-01 1"/>
      </material>
    </visual>
    <collision>
      <origin xyz="0 0 0" rpy="0 0 0"/>
      <geometry>
        <mesh filename="core-bottle-ab5ca2f648a9daa1b5ad628041310f96-coacd_convex_piece_13.obj" scale="1.0000E-01 1.0000E-01 1.0000E-01"/>
      </geometry>
    </collision>
    <visual>
      <origin xyz="0 0 0" rpy="0 0 0"/>
      <geometry>
        <mesh filename="core-bottle-ab5ca2f648a9daa1b5ad628041310f96-coacd_convex_piece_63.obj" scale="1.0000E-01 1.0000E-01 1.0000E-01"/>
      </geometry>
      <material name="">
        <color rgba="6.00E-01 2.00E-01 2.00E-01 1"/>
      </material>
    </visual>
    <collision>
      <origin xyz="0 0 0" rpy="0 0 0"/>
      <geometry>
        <mesh filename="core-bottle-ab5ca2f648a9daa1b5ad628041310f96-coacd_convex_piece_63.obj" scale="1.0000E-01 1.0000E-01 1.0000E-01"/>
      </geometry>
    </collision>
    <visual>
      <origin xyz="0 0 0" rpy="0 0 0"/>
      <geometry>
        <mesh filename="core-bottle-ab5ca2f648a9daa1b5ad628041310f96-coacd_convex_piece_8.obj" scale="1.0000E-01 1.0000E-01 1.0000E-01"/>
      </geometry>
      <material name="">
        <color rgba="6.00E-01 2.00E-01 2.00E-01 1"/>
      </material>
    </visual>
    <collision>
      <origin xyz="0 0 0" rpy="0 0 0"/>
      <geometry>
        <mesh filename="core-bottle-ab5ca2f648a9daa1b5ad628041310f96-coacd_convex_piece_8.obj" scale="1.0000E-01 1.0000E-01 1.0000E-01"/>
      </geometry>
    </collision>
    <visual>
      <origin xyz="0 0 0" rpy="0 0 0"/>
      <geometry>
        <mesh filename="core-bottle-ab5ca2f648a9daa1b5ad628041310f96-coacd_convex_piece_65.obj" scale="1.0000E-01 1.0000E-01 1.0000E-01"/>
      </geometry>
      <material name="">
        <color rgba="6.00E-01 2.00E-01 2.00E-01 1"/>
      </material>
    </visual>
    <collision>
      <origin xyz="0 0 0" rpy="0 0 0"/>
      <geometry>
        <mesh filename="core-bottle-ab5ca2f648a9daa1b5ad628041310f96-coacd_convex_piece_65.obj" scale="1.0000E-01 1.0000E-01 1.0000E-01"/>
      </geometry>
    </collision>
    <visual>
      <origin xyz="0 0 0" rpy="0 0 0"/>
      <geometry>
        <mesh filename="core-bottle-ab5ca2f648a9daa1b5ad628041310f96-coacd_convex_piece_61.obj" scale="1.0000E-01 1.0000E-01 1.0000E-01"/>
      </geometry>
      <material name="">
        <color rgba="6.00E-01 2.00E-01 2.00E-01 1"/>
      </material>
    </visual>
    <collision>
      <origin xyz="0 0 0" rpy="0 0 0"/>
      <geometry>
        <mesh filename="core-bottle-ab5ca2f648a9daa1b5ad628041310f96-coacd_convex_piece_61.obj" scale="1.0000E-01 1.0000E-01 1.0000E-01"/>
      </geometry>
    </collision>
    <visual>
      <origin xyz="0 0 0" rpy="0 0 0"/>
      <geometry>
        <mesh filename="core-bottle-ab5ca2f648a9daa1b5ad628041310f96-coacd_convex_piece_25.obj" scale="1.0000E-01 1.0000E-01 1.0000E-01"/>
      </geometry>
      <material name="">
        <color rgba="6.00E-01 2.00E-01 2.00E-01 1"/>
      </material>
    </visual>
    <collision>
      <origin xyz="0 0 0" rpy="0 0 0"/>
      <geometry>
        <mesh filename="core-bottle-ab5ca2f648a9daa1b5ad628041310f96-coacd_convex_piece_25.obj" scale="1.0000E-01 1.0000E-01 1.0000E-01"/>
      </geometry>
    </collision>
    <visual>
      <origin xyz="0 0 0" rpy="0 0 0"/>
      <geometry>
        <mesh filename="core-bottle-ab5ca2f648a9daa1b5ad628041310f96-coacd_convex_piece_69.obj" scale="1.0000E-01 1.0000E-01 1.0000E-01"/>
      </geometry>
      <material name="">
        <color rgba="6.00E-01 2.00E-01 2.00E-01 1"/>
      </material>
    </visual>
    <collision>
      <origin xyz="0 0 0" rpy="0 0 0"/>
      <geometry>
        <mesh filename="core-bottle-ab5ca2f648a9daa1b5ad628041310f96-coacd_convex_piece_69.obj" scale="1.0000E-01 1.0000E-01 1.0000E-01"/>
      </geometry>
    </collision>
    <visual>
      <origin xyz="0 0 0" rpy="0 0 0"/>
      <geometry>
        <mesh filename="core-bottle-ab5ca2f648a9daa1b5ad628041310f96-coacd_convex_piece_41.obj" scale="1.0000E-01 1.0000E-01 1.0000E-01"/>
      </geometry>
      <material name="">
        <color rgba="6.00E-01 2.00E-01 2.00E-01 1"/>
      </material>
    </visual>
    <collision>
      <origin xyz="0 0 0" rpy="0 0 0"/>
      <geometry>
        <mesh filename="core-bottle-ab5ca2f648a9daa1b5ad628041310f96-coacd_convex_piece_41.obj" scale="1.0000E-01 1.0000E-01 1.0000E-01"/>
      </geometry>
    </collision>
    <visual>
      <origin xyz="0 0 0" rpy="0 0 0"/>
      <geometry>
        <mesh filename="core-bottle-ab5ca2f648a9daa1b5ad628041310f96-coacd_convex_piece_37.obj" scale="1.0000E-01 1.0000E-01 1.0000E-01"/>
      </geometry>
      <material name="">
        <color rgba="6.00E-01 2.00E-01 2.00E-01 1"/>
      </material>
    </visual>
    <collision>
      <origin xyz="0 0 0" rpy="0 0 0"/>
      <geometry>
        <mesh filename="core-bottle-ab5ca2f648a9daa1b5ad628041310f96-coacd_convex_piece_37.obj" scale="1.0000E-01 1.0000E-01 1.0000E-01"/>
      </geometry>
    </collision>
    <visual>
      <origin xyz="0 0 0" rpy="0 0 0"/>
      <geometry>
        <mesh filename="core-bottle-ab5ca2f648a9daa1b5ad628041310f96-coacd_convex_piece_57.obj" scale="1.0000E-01 1.0000E-01 1.0000E-01"/>
      </geometry>
      <material name="">
        <color rgba="6.00E-01 2.00E-01 2.00E-01 1"/>
      </material>
    </visual>
    <collision>
      <origin xyz="0 0 0" rpy="0 0 0"/>
      <geometry>
        <mesh filename="core-bottle-ab5ca2f648a9daa1b5ad628041310f96-coacd_convex_piece_57.obj" scale="1.0000E-01 1.0000E-01 1.0000E-01"/>
      </geometry>
    </collision>
    <visual>
      <origin xyz="0 0 0" rpy="0 0 0"/>
      <geometry>
        <mesh filename="core-bottle-ab5ca2f648a9daa1b5ad628041310f96-coacd_convex_piece_42.obj" scale="1.0000E-01 1.0000E-01 1.0000E-01"/>
      </geometry>
      <material name="">
        <color rgba="6.00E-01 2.00E-01 2.00E-01 1"/>
      </material>
    </visual>
    <collision>
      <origin xyz="0 0 0" rpy="0 0 0"/>
      <geometry>
        <mesh filename="core-bottle-ab5ca2f648a9daa1b5ad628041310f96-coacd_convex_piece_42.obj" scale="1.0000E-01 1.0000E-01 1.0000E-01"/>
      </geometry>
    </collision>
    <visual>
      <origin xyz="0 0 0" rpy="0 0 0"/>
      <geometry>
        <mesh filename="core-bottle-ab5ca2f648a9daa1b5ad628041310f96-coacd_convex_piece_12.obj" scale="1.0000E-01 1.0000E-01 1.0000E-01"/>
      </geometry>
      <material name="">
        <color rgba="6.00E-01 2.00E-01 2.00E-01 1"/>
      </material>
    </visual>
    <collision>
      <origin xyz="0 0 0" rpy="0 0 0"/>
      <geometry>
        <mesh filename="core-bottle-ab5ca2f648a9daa1b5ad628041310f96-coacd_convex_piece_12.obj" scale="1.0000E-01 1.0000E-01 1.0000E-01"/>
      </geometry>
    </collision>
    <visual>
      <origin xyz="0 0 0" rpy="0 0 0"/>
      <geometry>
        <mesh filename="core-bottle-ab5ca2f648a9daa1b5ad628041310f96-coacd_convex_piece_59.obj" scale="1.0000E-01 1.0000E-01 1.0000E-01"/>
      </geometry>
      <material name="">
        <color rgba="6.00E-01 2.00E-01 2.00E-01 1"/>
      </material>
    </visual>
    <collision>
      <origin xyz="0 0 0" rpy="0 0 0"/>
      <geometry>
        <mesh filename="core-bottle-ab5ca2f648a9daa1b5ad628041310f96-coacd_convex_piece_59.obj" scale="1.0000E-01 1.0000E-01 1.0000E-01"/>
      </geometry>
    </collision>
    <visual>
      <origin xyz="0 0 0" rpy="0 0 0"/>
      <geometry>
        <mesh filename="core-bottle-ab5ca2f648a9daa1b5ad628041310f96-coacd_convex_piece_48.obj" scale="1.0000E-01 1.0000E-01 1.0000E-01"/>
      </geometry>
      <material name="">
        <color rgba="6.00E-01 2.00E-01 2.00E-01 1"/>
      </material>
    </visual>
    <collision>
      <origin xyz="0 0 0" rpy="0 0 0"/>
      <geometry>
        <mesh filename="core-bottle-ab5ca2f648a9daa1b5ad628041310f96-coacd_convex_piece_48.obj" scale="1.0000E-01 1.0000E-01 1.0000E-01"/>
      </geometry>
    </collision>
    <visual>
      <origin xyz="0 0 0" rpy="0 0 0"/>
      <geometry>
        <mesh filename="core-bottle-ab5ca2f648a9daa1b5ad628041310f96-coacd_convex_piece_34.obj" scale="1.0000E-01 1.0000E-01 1.0000E-01"/>
      </geometry>
      <material name="">
        <color rgba="6.00E-01 2.00E-01 2.00E-01 1"/>
      </material>
    </visual>
    <collision>
      <origin xyz="0 0 0" rpy="0 0 0"/>
      <geometry>
        <mesh filename="core-bottle-ab5ca2f648a9daa1b5ad628041310f96-coacd_convex_piece_34.obj" scale="1.0000E-01 1.0000E-01 1.0000E-01"/>
      </geometry>
    </collision>
    <visual>
      <origin xyz="0 0 0" rpy="0 0 0"/>
      <geometry>
        <mesh filename="core-bottle-ab5ca2f648a9daa1b5ad628041310f96-coacd_convex_piece_18.obj" scale="1.0000E-01 1.0000E-01 1.0000E-01"/>
      </geometry>
      <material name="">
        <color rgba="6.00E-01 2.00E-01 2.00E-01 1"/>
      </material>
    </visual>
    <collision>
      <origin xyz="0 0 0" rpy="0 0 0"/>
      <geometry>
        <mesh filename="core-bottle-ab5ca2f648a9daa1b5ad628041310f96-coacd_convex_piece_18.obj" scale="1.0000E-01 1.0000E-01 1.0000E-01"/>
      </geometry>
    </collision>
    <visual>
      <origin xyz="0 0 0" rpy="0 0 0"/>
      <geometry>
        <mesh filename="core-bottle-ab5ca2f648a9daa1b5ad628041310f96-coacd_convex_piece_19.obj" scale="1.0000E-01 1.0000E-01 1.0000E-01"/>
      </geometry>
      <material name="">
        <color rgba="6.00E-01 2.00E-01 2.00E-01 1"/>
      </material>
    </visual>
    <collision>
      <origin xyz="0 0 0" rpy="0 0 0"/>
      <geometry>
        <mesh filename="core-bottle-ab5ca2f648a9daa1b5ad628041310f96-coacd_convex_piece_19.obj" scale="1.0000E-01 1.0000E-01 1.0000E-01"/>
      </geometry>
    </collision>
    <visual>
      <origin xyz="0 0 0" rpy="0 0 0"/>
      <geometry>
        <mesh filename="core-bottle-ab5ca2f648a9daa1b5ad628041310f96-coacd_convex_piece_50.obj" scale="1.0000E-01 1.0000E-01 1.0000E-01"/>
      </geometry>
      <material name="">
        <color rgba="6.00E-01 2.00E-01 2.00E-01 1"/>
      </material>
    </visual>
    <collision>
      <origin xyz="0 0 0" rpy="0 0 0"/>
      <geometry>
        <mesh filename="core-bottle-ab5ca2f648a9daa1b5ad628041310f96-coacd_convex_piece_50.obj" scale="1.0000E-01 1.0000E-01 1.0000E-01"/>
      </geometry>
    </collision>
    <visual>
      <origin xyz="0 0 0" rpy="0 0 0"/>
      <geometry>
        <mesh filename="core-bottle-ab5ca2f648a9daa1b5ad628041310f96-coacd_convex_piece_35.obj" scale="1.0000E-01 1.0000E-01 1.0000E-01"/>
      </geometry>
      <material name="">
        <color rgba="6.00E-01 2.00E-01 2.00E-01 1"/>
      </material>
    </visual>
    <collision>
      <origin xyz="0 0 0" rpy="0 0 0"/>
      <geometry>
        <mesh filename="core-bottle-ab5ca2f648a9daa1b5ad628041310f96-coacd_convex_piece_35.obj" scale="1.0000E-01 1.0000E-01 1.0000E-01"/>
      </geometry>
    </collision>
    <visual>
      <origin xyz="0 0 0" rpy="0 0 0"/>
      <geometry>
        <mesh filename="core-bottle-ab5ca2f648a9daa1b5ad628041310f96-coacd_convex_piece_39.obj" scale="1.0000E-01 1.0000E-01 1.0000E-01"/>
      </geometry>
      <material name="">
        <color rgba="6.00E-01 2.00E-01 2.00E-01 1"/>
      </material>
    </visual>
    <collision>
      <origin xyz="0 0 0" rpy="0 0 0"/>
      <geometry>
        <mesh filename="core-bottle-ab5ca2f648a9daa1b5ad628041310f96-coacd_convex_piece_39.obj" scale="1.0000E-01 1.0000E-01 1.0000E-01"/>
      </geometry>
    </collision>
  </link>
  <link name="bottle_cap">
    <origin xyz="0 0 0.002" rpy="0 0 0"/>
    <mass value="1.00E-02"/>
    <visual>
      <origin xyz="0 0 0.002" rpy="0 0 0"/>
      <geometry>
        <mesh filename="core-bottle-ab5ca2f648a9daa1b5ad628041310f96-coacd_convex_piece_51.obj" scale="1.0000E-01 1.0000E-01 1.0000E-01"/>
      </geometry>
      <material name="">
        <color rgba="3.00E-01 6.00E-01 6.00E-01 1"/>
      </material>
    </visual>
    <collision>
      <origin xyz="0 0 0.002" rpy="0 0 0"/>
      <geometry>
        <mesh filename="core-bottle-ab5ca2f648a9daa1b5ad628041310f96-coacd_convex_piece_51.obj" scale="1.0000E-01 1.0000E-01 1.0000E-01"/>
      </geometry>
    </collision>
  </link>
  <joint name="bottle_cap_joint" type="revolute">
    <origin xyz="0 0 0" rpy="0 0 0"/>
    <parent link="bottle_body"/>
    <child link="bottle_cap"/>
    <axis xyz="0 0 1"/>
    <limit lower="0.00" upper="6.28"/>
    <dynamics damping="0.05"/>
  </joint>
</robot>
